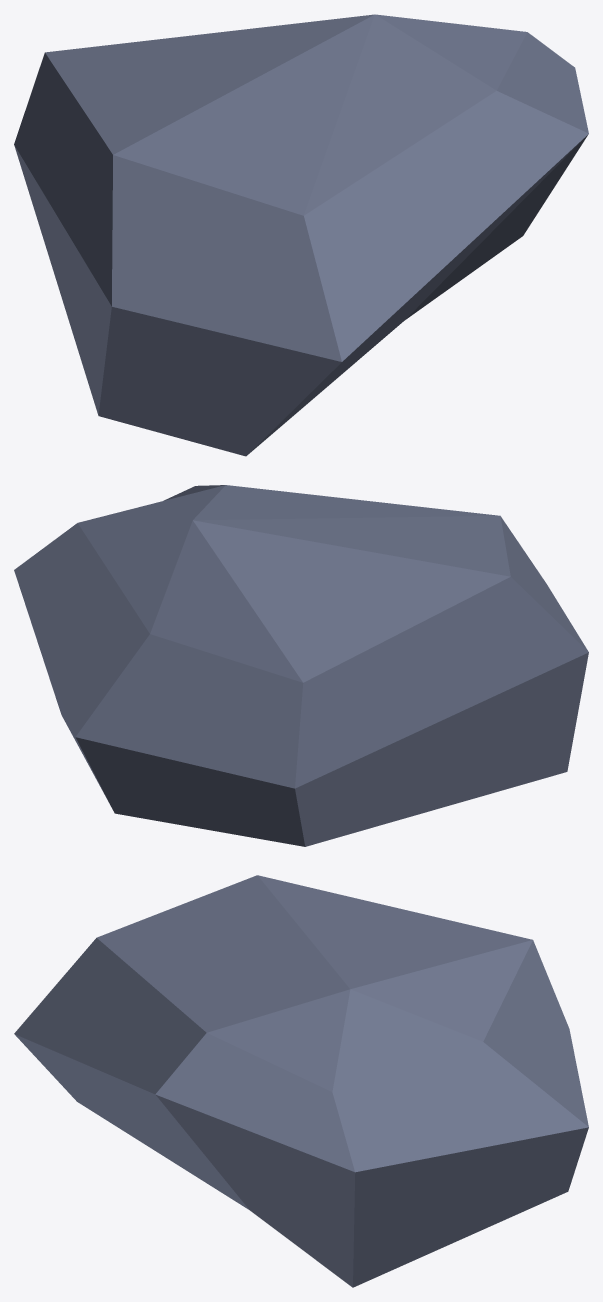
The model's file is Rock2.fbx.
3 renders of one model, top to bottom at view 1: azimuth 30°, elevation 25°; view 2: azimuth 150°, elevation 25°; view 3: azimuth 270°, elevation 25°, orthographic. The views are drawn at different scales.
Parts seen in each view (by area): view 1: Sphere; view 2: Sphere; view 3: Sphere.
Part boxes in pixels (bbox=[...]): Sphere: bbox=[14, 14, 588, 456]; Sphere: bbox=[14, 485, 588, 846]; Sphere: bbox=[14, 875, 588, 1287].
Size of the model in its own units: 23.01 by 10.26 by 22.68.
